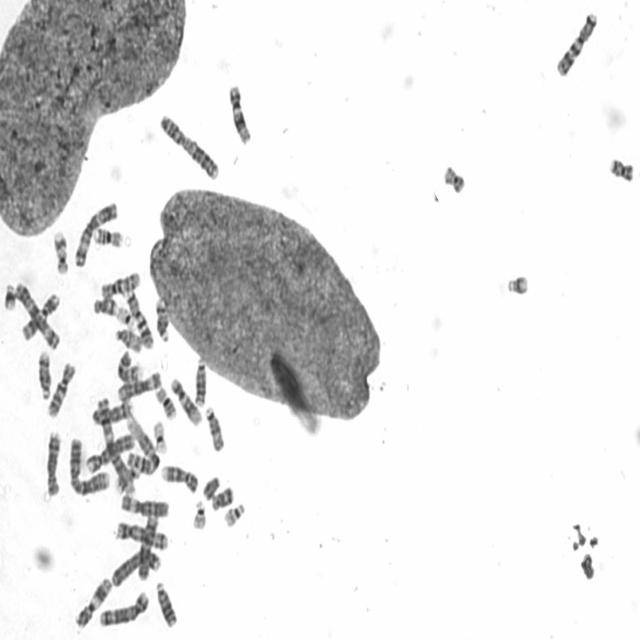A1: (94, 395, 136, 496), (123, 411, 160, 476)
A2: (157, 109, 220, 182), (67, 434, 111, 497)
A3: (13, 279, 61, 349), (72, 200, 118, 268)
B4: (84, 430, 136, 474), (109, 546, 162, 588)
B5: (98, 587, 150, 628), (114, 518, 169, 550)
C10: (44, 359, 77, 420), (98, 268, 142, 301)
C11: (73, 575, 113, 629), (20, 291, 61, 342)
C12: (169, 374, 203, 428), (226, 79, 253, 147)
C6: (116, 368, 162, 402), (119, 491, 170, 518)
C7: (553, 8, 599, 78), (123, 288, 155, 350)
C8: (90, 397, 134, 426), (44, 428, 62, 498)
C9: (159, 461, 199, 494), (114, 348, 144, 384)
D13: (153, 578, 178, 630), (192, 356, 207, 408)
D14: (36, 349, 52, 400), (154, 295, 170, 344)
D15: (203, 404, 225, 454), (113, 325, 143, 354)
E16: (153, 384, 178, 420), (92, 224, 124, 248)
E17: (51, 228, 70, 276), (114, 465, 141, 495)
E18: (209, 483, 235, 512), (91, 294, 118, 318)
F19: (152, 418, 169, 455), (115, 303, 136, 329)
F20: (442, 161, 466, 195), (607, 154, 635, 183)
G21: (504, 270, 530, 296), (2, 280, 17, 312)
G22: (222, 500, 245, 528), (190, 498, 208, 531)
X: (136, 510, 162, 584)
Y: (201, 472, 221, 502)
